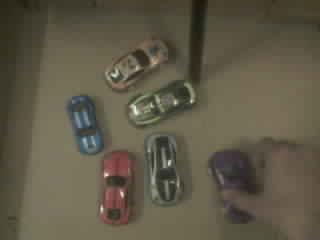Car: (209, 151, 254, 222), (129, 80, 196, 126), (107, 40, 166, 88), (146, 134, 183, 204), (100, 151, 132, 223), (67, 95, 103, 152)
